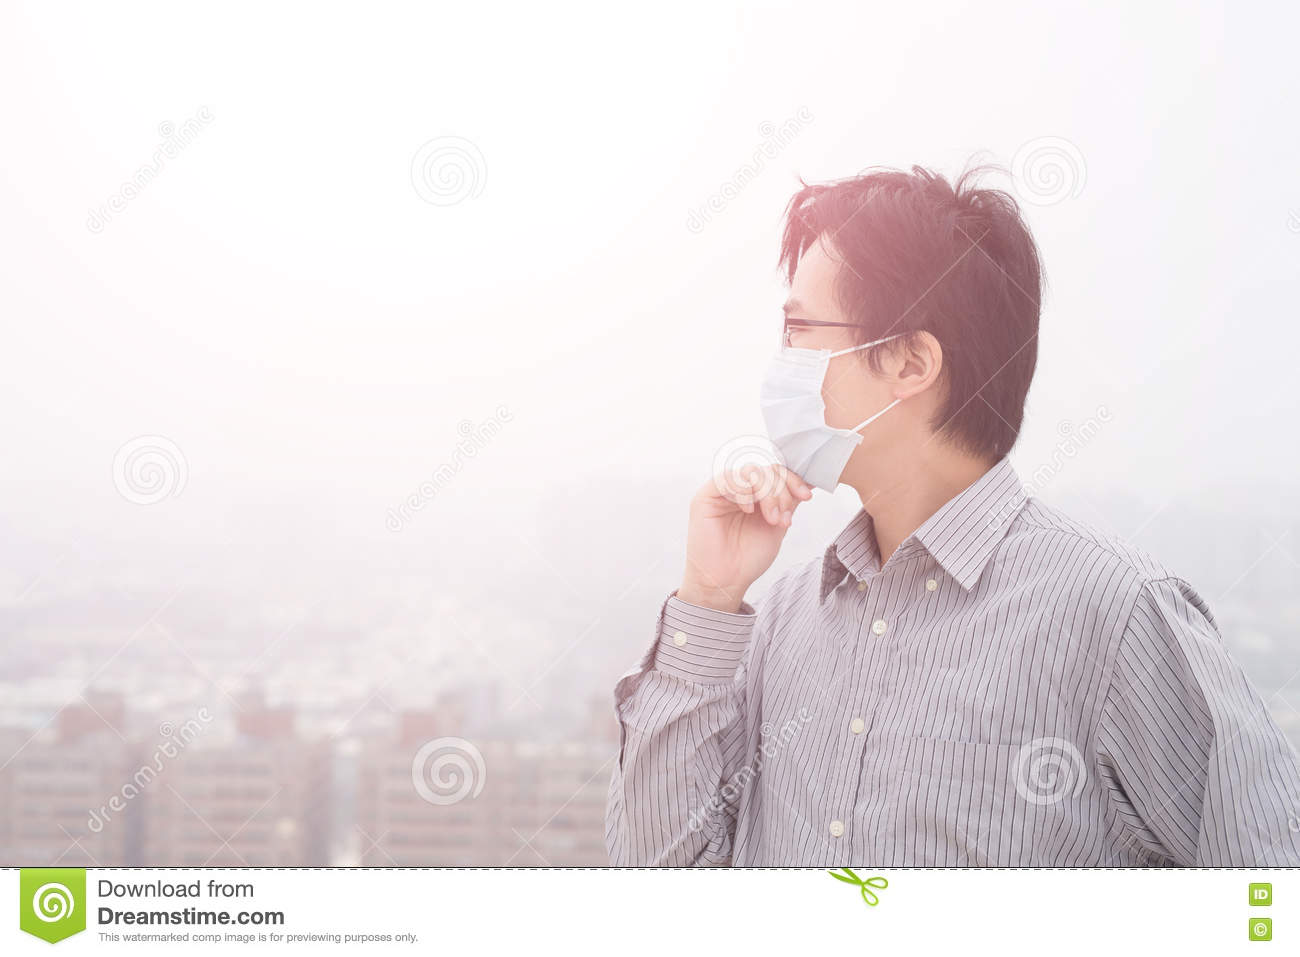mask: (748, 336, 866, 495)
